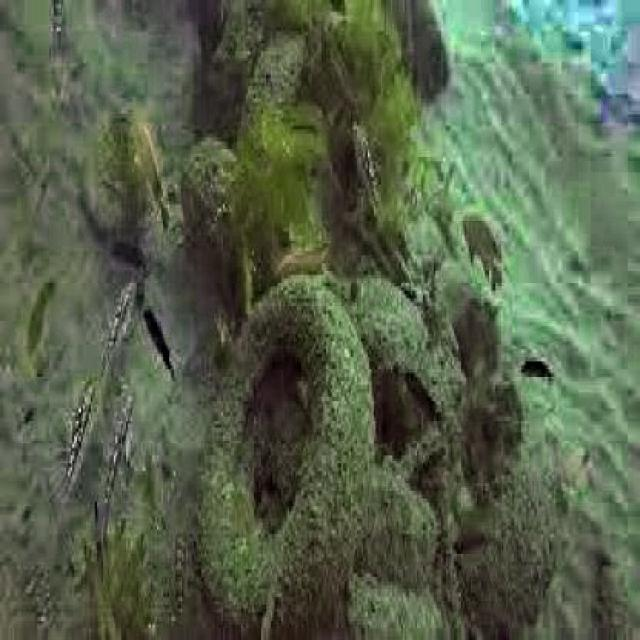tire: (196, 247, 383, 640)
